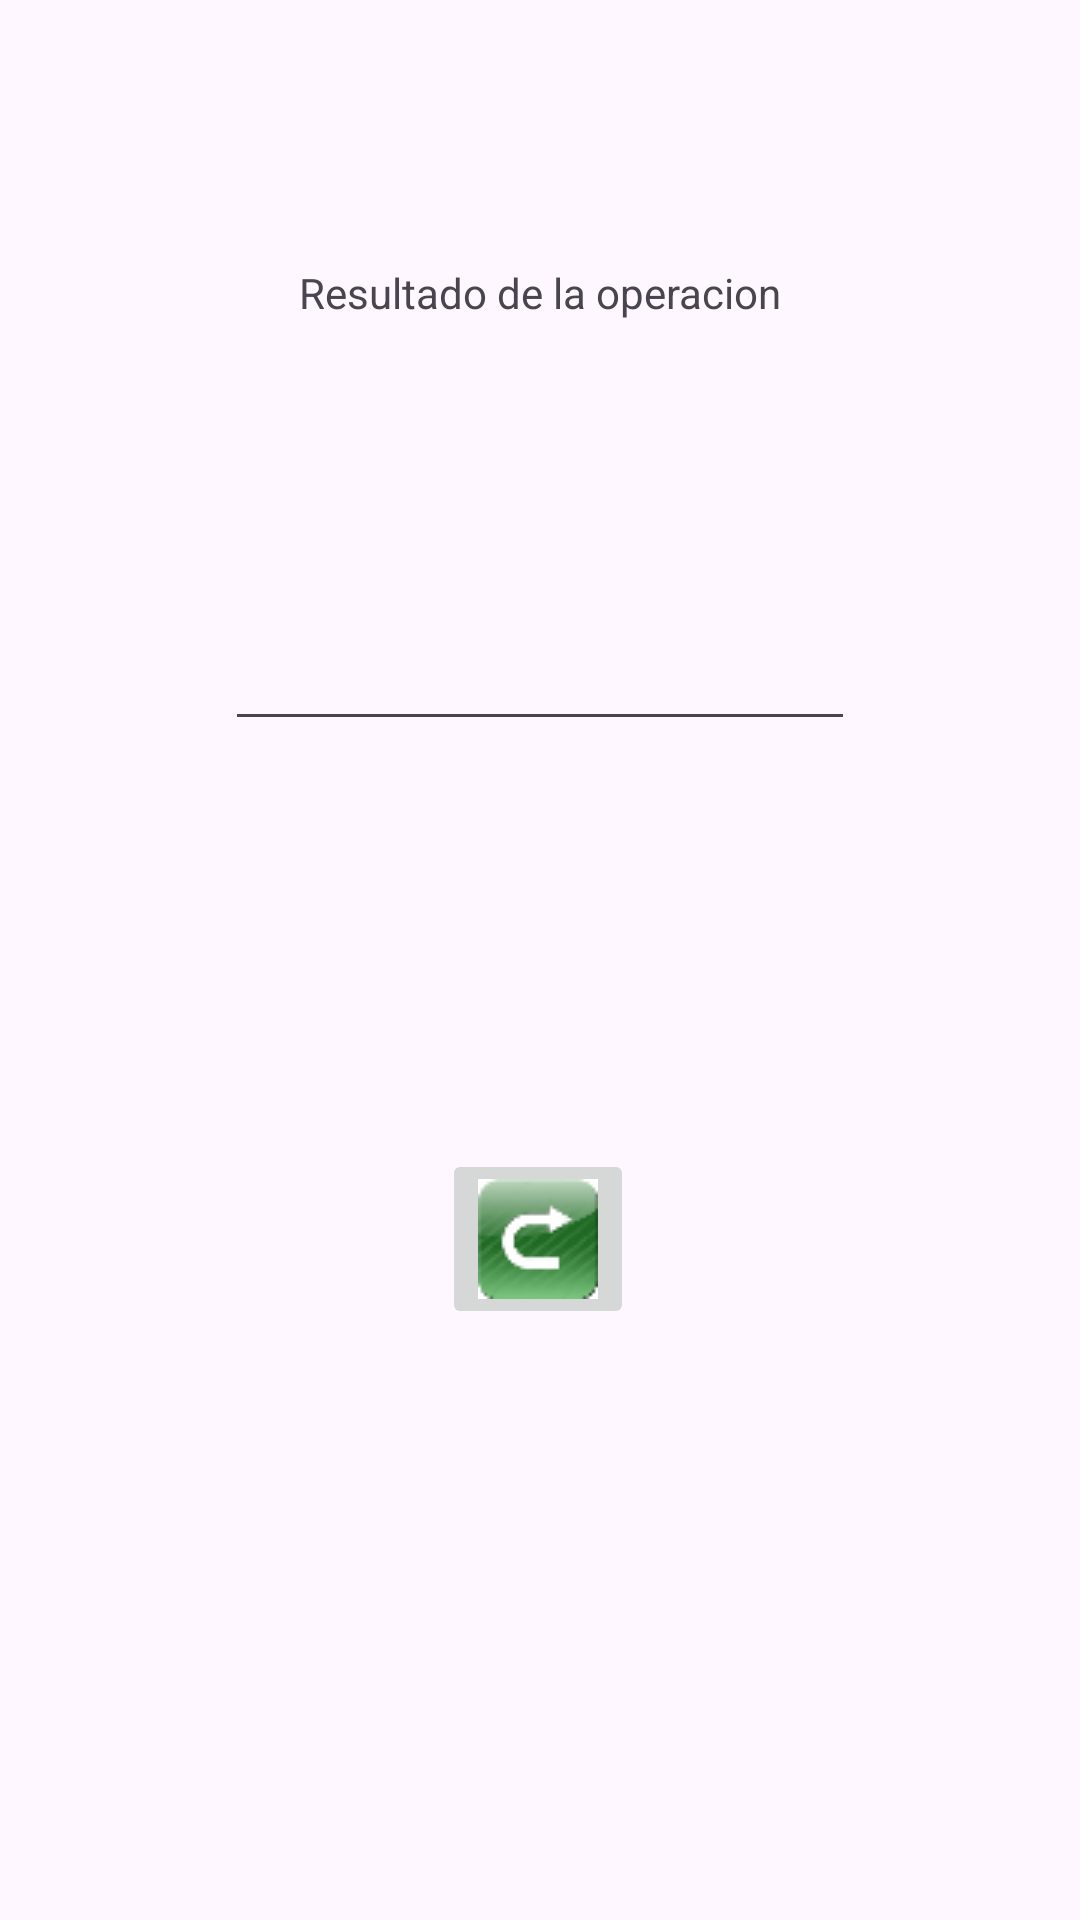

Locate icon controls on the screen. Image size 1080 × 1920, boxes as (x1, y1, x2, y2).
regresar: (454, 1167, 622, 1311)
